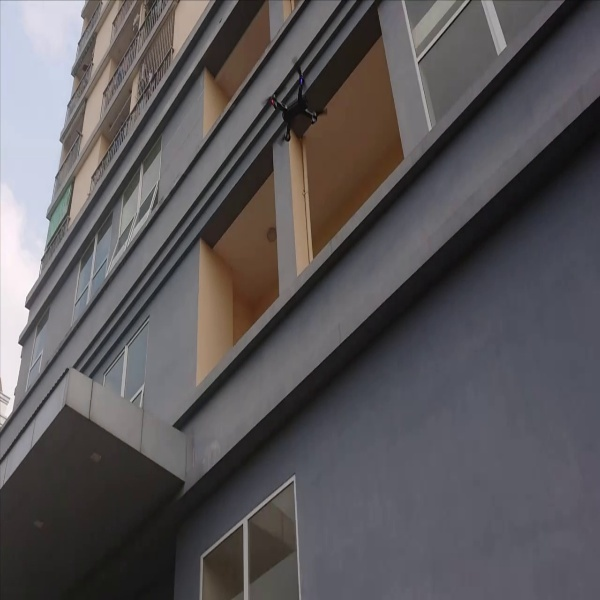drone: (258, 58, 328, 149)
